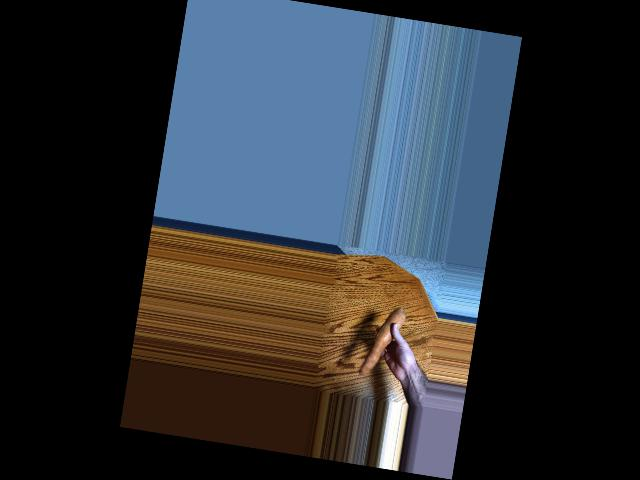sweet_potato: (363, 301, 399, 380)
